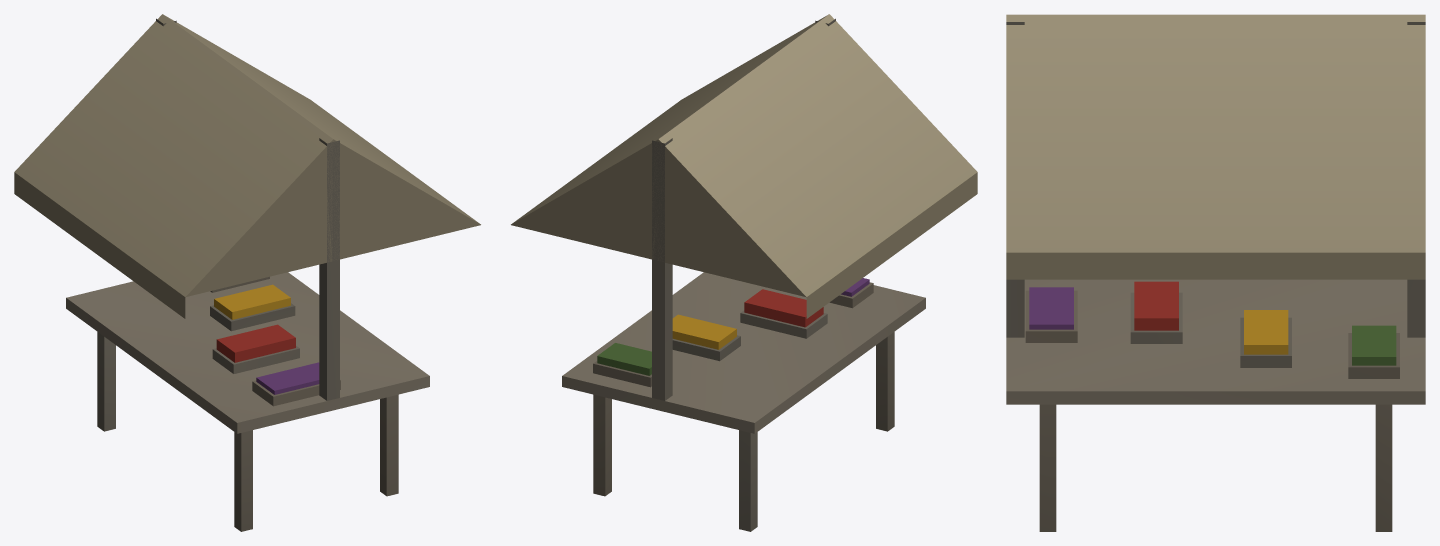
Rendered from stall.market.canvas.glb.
3 views of the same model, side by side, from view 1: azimuth 30°, elevation 25°; view 2: azimuth 150°, elevation 25°; view 3: azimuth 270°, elevation 25° (orthographic). The views are drawn at different scales.
Parts seen in each view (by area): view 1: stall_market_canvas; view 2: stall_market_canvas; view 3: stall_market_canvas.
Part boxes in pixels (<box>): stall_market_canvas: <box>14,14,480,531</box>; stall_market_canvas: <box>511,14,977,531</box>; stall_market_canvas: <box>1006,14,1425,531</box>.
Size of what is drawn, in the model's own units: 2.26 by 2.8 by 2.26.
